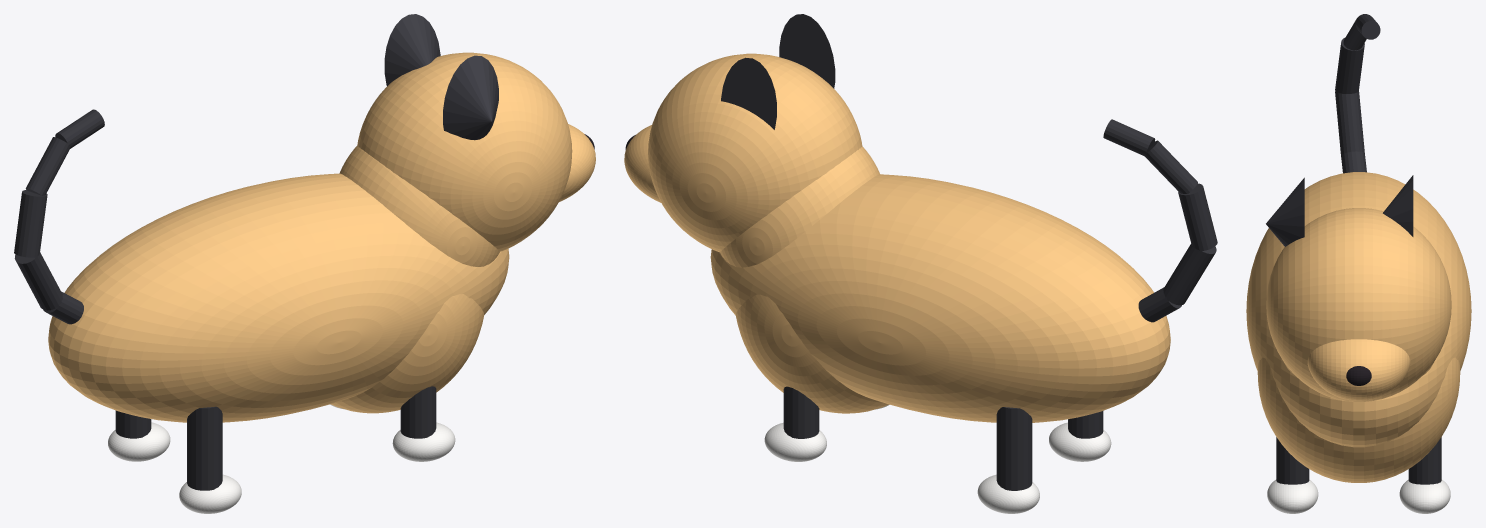
The model's file is beau.glb.
3 views of the same model, side by side, from view 1: azimuth 30°, elevation 25°; view 2: azimuth 150°, elevation 25°; view 3: azimuth 270°, elevation 25° (orthographic). The views are drawn at different scales.
Parts seen in each view (by area): view 1: Rim_Body, Rim_Head, Rim_Chest, Rim_Neck, Ear_L, Leg_BL, Ear_R, Tail_2, Leg_FL, Paw_BL, Paw_BR, Paw_FL (+6 smaller); view 2: Rim_Body, Rim_Head, Rim_Chest, Rim_Neck, Leg_BR, Ear_L, Ear_R, Tail_2, Tail_1, Leg_FR, Paw_BL, Paw_FR (+6 smaller); view 3: Rim_Head, Rim_Body, Rim_Chest, Rim_Muzzle, Ear_L, Tail_1, Paw_FL, Paw_FR, Tail_2, Ear_R, Leg_FL, Leg_FR (+4 smaller).
Boxes of the visible parts, x1,y1,x2,y2 form: Rim_Body: [48, 173, 509, 422]; Rim_Head: [357, 52, 572, 251]; Rim_Chest: [330, 294, 484, 413]; Rim_Neck: [339, 145, 499, 266]; Ear_L: [443, 55, 498, 140]; Leg_BL: [187, 406, 222, 490]; Ear_R: [384, 14, 440, 86]; Tail_2: [14, 190, 47, 257]; Leg_FL: [400, 386, 436, 438]; Paw_BL: [179, 474, 241, 513]; Paw_BR: [108, 422, 170, 461]; Paw_FL: [392, 422, 455, 461]; Rim_Body: [710, 174, 1170, 422]; Rim_Head: [648, 53, 862, 252]; Rim_Chest: [735, 294, 888, 413]; Rim_Neck: [720, 146, 879, 267]; Leg_BR: [996, 407, 1032, 490]; Ear_L: [779, 14, 835, 88]; Ear_R: [721, 57, 776, 129]; Tail_2: [1178, 183, 1217, 251]; Tail_1: [1163, 243, 1216, 305]; Leg_FR: [783, 386, 819, 438]; Paw_BL: [1049, 422, 1111, 461]; Paw_FR: [764, 422, 826, 461]; Rim_Head: [1266, 208, 1451, 401]; Rim_Body: [1246, 172, 1471, 447]; Rim_Chest: [1257, 357, 1460, 482]; Rim_Muzzle: [1307, 339, 1410, 400]; Ear_L: [1266, 177, 1304, 246]; Tail_1: [1335, 91, 1364, 155]; Paw_FL: [1267, 479, 1318, 513]; Paw_FR: [1399, 479, 1450, 513]; Tail_2: [1335, 38, 1364, 93]; Ear_R: [1383, 175, 1413, 236]; Leg_FL: [1276, 437, 1309, 484]; Leg_FR: [1408, 437, 1441, 484].
Size of the model in its own units: 2.07 by 1.32 by 0.748.
